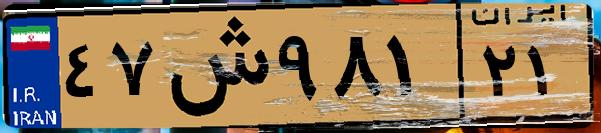1: (385, 28, 445, 110), (525, 38, 570, 115)
2: (475, 38, 525, 113)
4: (57, 26, 110, 100)
7: (110, 28, 158, 98)
8: (330, 28, 385, 110)
9: (270, 28, 330, 110)
ش: (158, 12, 270, 120)
